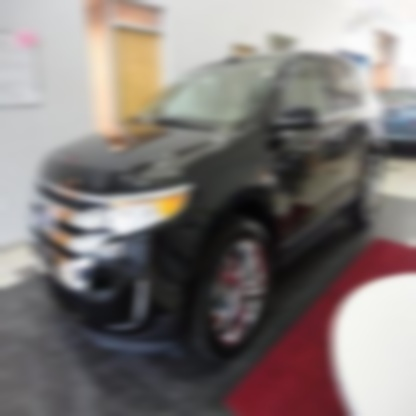Vehicle: (30, 50, 386, 363)
